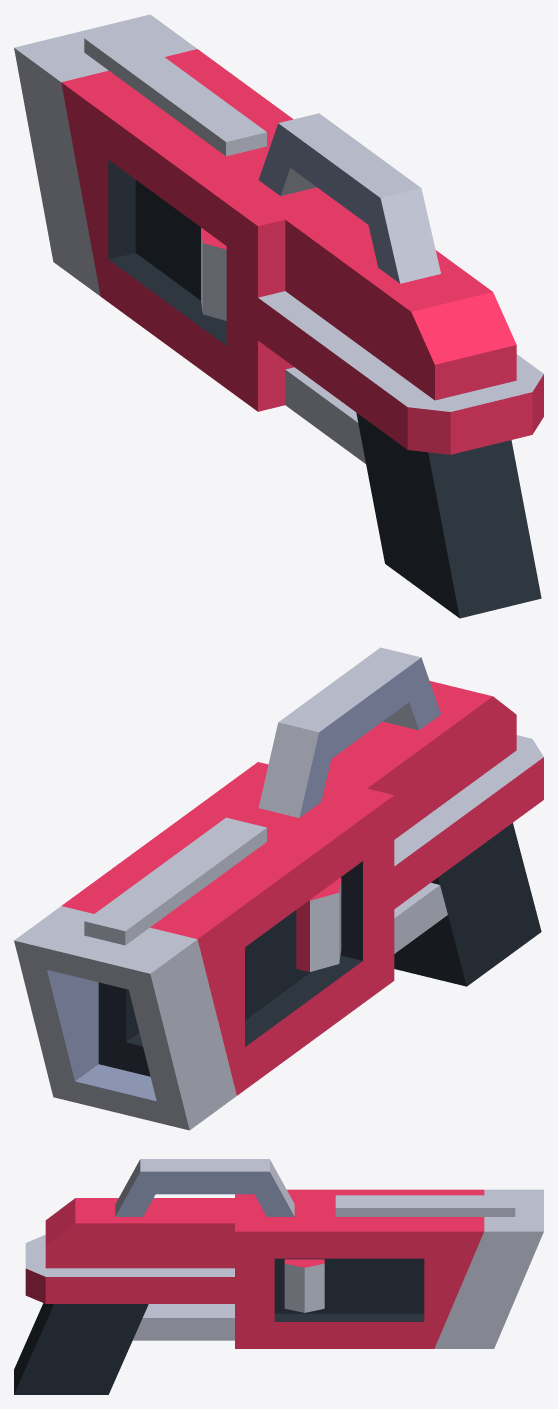
Rendered from blasterH.dae.
The picture shows the model from 3 angles, top to bottom: view 1: azimuth 30°, elevation 25°; view 2: azimuth 150°, elevation 25°; view 3: azimuth 270°, elevation 25°; orthographic projection. The views are drawn at different scales.
Parts seen in each view (by area): view 1: blasterH; view 2: blasterH; view 3: blasterH.
Part boxes in pixels (bbox=[...]): blasterH: bbox=[14, 14, 543, 618]; blasterH: bbox=[14, 647, 543, 1130]; blasterH: bbox=[14, 1159, 543, 1394].
Size of the model in its own units: 0.1 by 0.24 by 0.5316.
